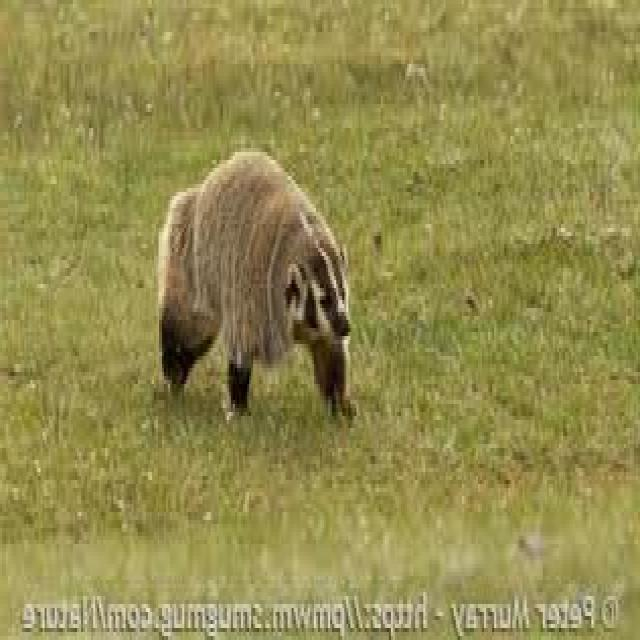badger: (158, 152, 352, 416)
